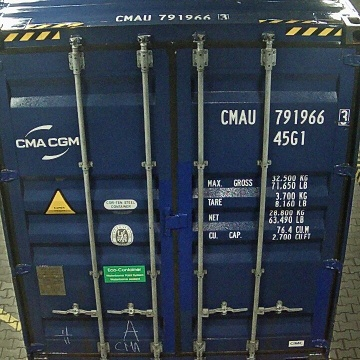serial_id: (221, 109, 350, 124)
